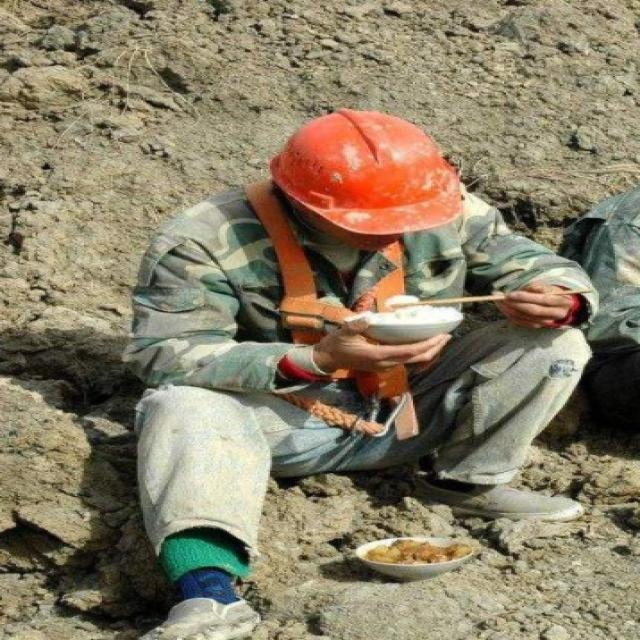Arnes_seguridad: (232, 174, 454, 403)
